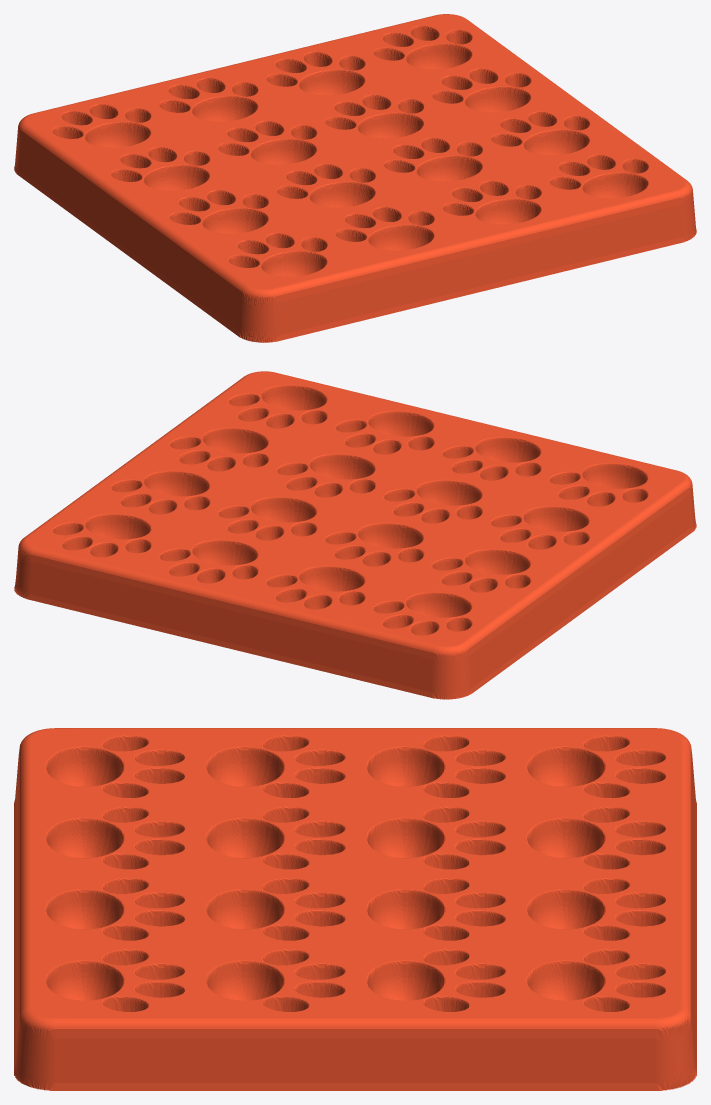
File: mold.glb
The picture shows the model from 3 angles, top to bottom: view 1: azimuth 30°, elevation 25°; view 2: azimuth 150°, elevation 25°; view 3: azimuth 270°, elevation 25°; orthographic projection. The views are drawn at different scales.
Parts seen in each view (by area): view 1: geometry_0; view 2: geometry_0; view 3: geometry_0.
Part boxes in pixels (x1,y1,x2,y2): geometry_0: (14, 14, 696, 342); geometry_0: (14, 371, 696, 699); geometry_0: (14, 728, 696, 1090).
Bounding box in the file's own units: 0.1569 × 0.0159 × 0.1496.
